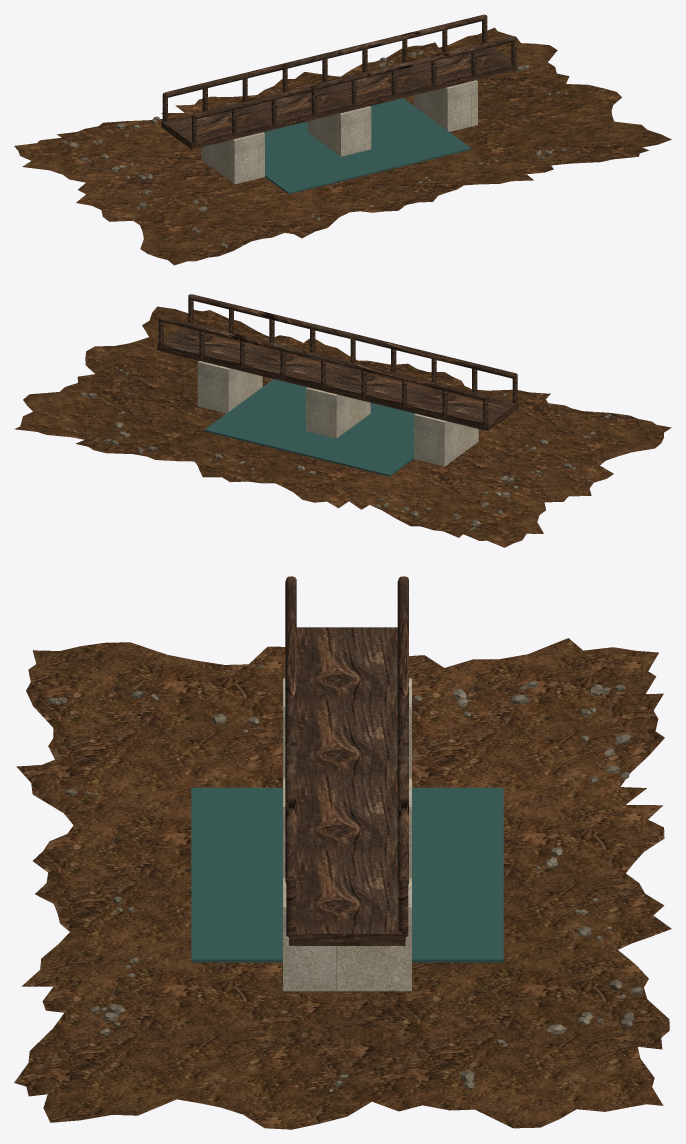
Rendered from bridge@2.glb.
3 views of the same model, one above another, from view 1: azimuth 30°, elevation 25°; view 2: azimuth 150°, elevation 25°; view 3: azimuth 270°, elevation 25° (orthographic). The views are drawn at different scales.
Visible parts, largest first — view 1: part_0, part_4, part_2, part_3, part_1; view 2: part_0, part_4, part_2, part_3, part_1; view 3: part_0, part_4, part_2, part_3, part_1.
Boxes of the visible parts, box(x1,y1,x2,y2) form: part_0: box(14, 27, 671, 265); part_4: box(161, 14, 517, 149); part_2: box(263, 98, 471, 194); part_3: box(201, 80, 477, 184); part_1: box(62, 50, 567, 248); part_0: box(14, 306, 671, 547); part_4: box(157, 294, 518, 431); part_2: box(204, 379, 414, 476); part_3: box(197, 361, 478, 466); part_1: box(80, 367, 611, 530); part_0: box(14, 638, 671, 1129); part_4: box(285, 576, 408, 945); part_2: box(191, 787, 503, 962); part_3: box(283, 678, 411, 991); part_1: box(46, 665, 642, 1091).
Size of the model in its own units: 6.89 by 1.03 by 3.9.
Materials: 5 (4 with a texture image).
